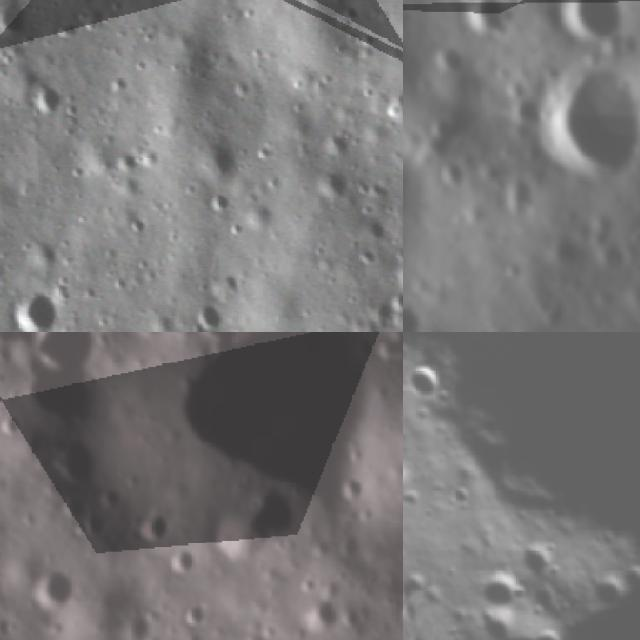crater: (403, 332, 640, 640), (516, 45, 640, 210), (199, 482, 299, 564), (538, 0, 640, 74), (467, 557, 536, 624), (449, 0, 526, 59), (490, 166, 558, 232), (41, 434, 110, 494), (23, 332, 111, 378), (475, 601, 575, 640), (418, 33, 478, 94), (538, 228, 597, 290), (403, 352, 456, 417), (24, 560, 80, 614), (118, 496, 178, 546), (582, 568, 636, 622), (431, 150, 482, 201), (517, 539, 568, 588), (14, 285, 65, 332), (22, 75, 70, 118), (159, 538, 202, 579), (318, 160, 358, 201), (403, 290, 442, 332), (403, 452, 428, 514), (194, 296, 234, 331), (403, 563, 438, 603), (178, 599, 213, 634), (0, 0, 33, 35), (334, 473, 370, 504), (0, 412, 25, 443)
